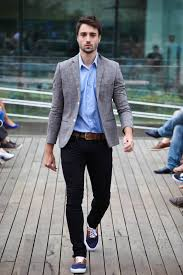F_M_suit jacket: (38, 49, 142, 154)
F_belt: (69, 126, 113, 146)
F_dress pants: (60, 137, 119, 260)
